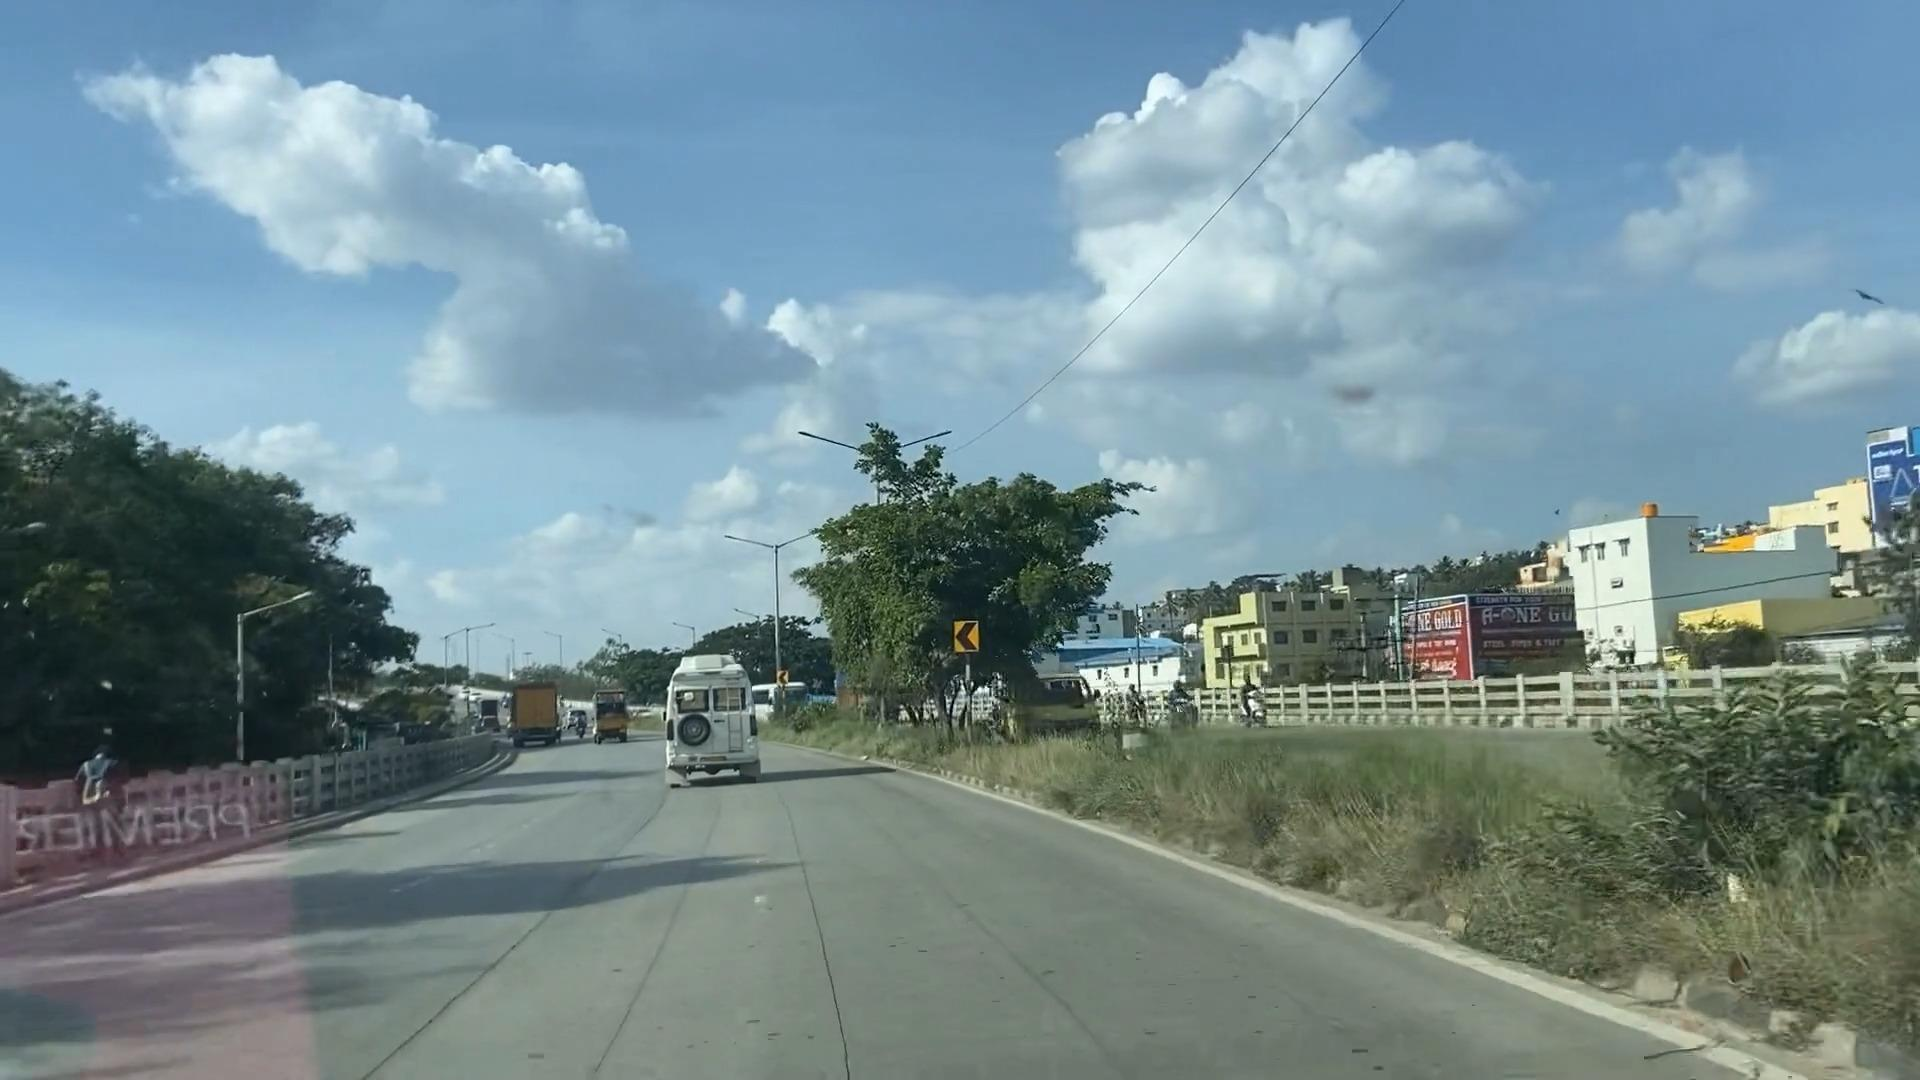HMV: (649, 650, 765, 774)
